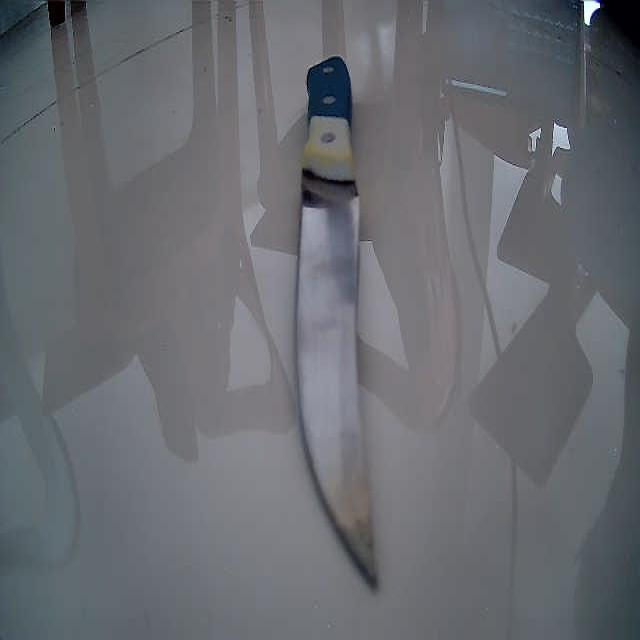knife: (296, 56, 379, 592)
